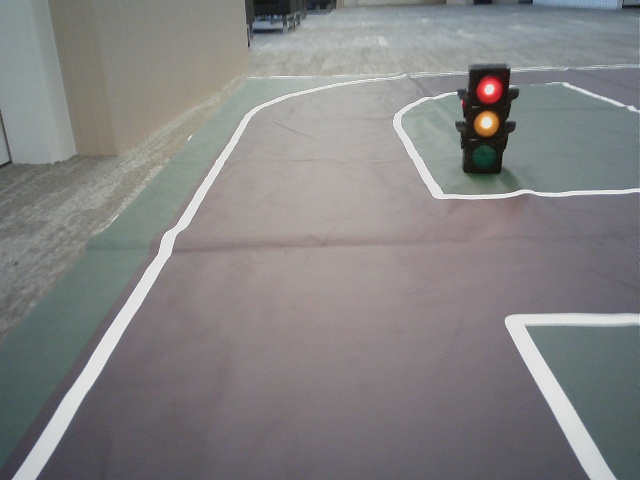red: (467, 69, 500, 168)
